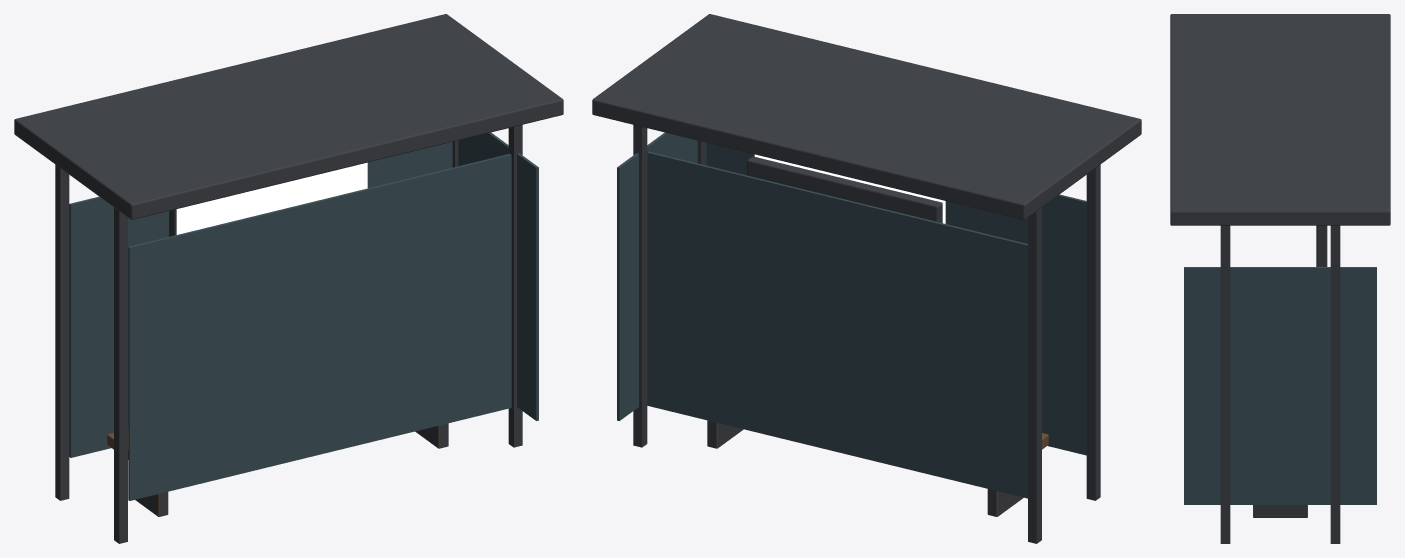
File: prop_bus_shelter.glb
3 views of the same model, side by side, from view 1: azimuth 30°, elevation 25°; view 2: azimuth 150°, elevation 25°; view 3: azimuth 270°, elevation 25° (orthographic). The views are drawn at different scales.
Parts seen in each view (by area): view 1: bus_shelter_glass_front, bus_shelter_roof, bus_shelter_glass_back, bus_shelter_frame, bus_shelter_glass_side, bus_shelter_ad_panel, bus_shelter_bench; view 2: bus_shelter_glass_back, bus_shelter_roof, bus_shelter_glass_front, bus_shelter_frame, bus_shelter_glass_side, bus_shelter_ad_box, bus_shelter_bench, bus_shelter_ad_panel; view 3: bus_shelter_roof, bus_shelter_glass_side, bus_shelter_frame, bus_shelter_bench, bus_shelter_ad_box.
Part boxes in pixels (box(x1,y1,x2,y2)): bus_shelter_glass_front: box(128, 154, 511, 500); bus_shelter_roof: box(14, 14, 563, 219); bus_shelter_glass_back: box(69, 142, 452, 457); bus_shelter_frame: box(55, 125, 522, 543); bus_shelter_glass_side: box(458, 132, 538, 420); bus_shelter_ad_panel: box(176, 162, 367, 234); bus_shelter_bench: box(107, 423, 448, 516); bus_shelter_glass_back: box(647, 151, 1027, 498); bus_shelter_roof: box(592, 14, 1141, 219); bus_shelter_glass_front: box(706, 142, 1086, 455); bus_shelter_frame: box(633, 125, 1100, 543); bus_shelter_glass_side: box(617, 132, 706, 420); bus_shelter_ad_box: box(747, 156, 942, 222); bus_shelter_bench: box(707, 420, 1048, 516); bus_shelter_ad_panel: box(754, 154, 945, 223); bus_shelter_roof: box(1170, 14, 1390, 225); bus_shelter_glass_side: box(1184, 267, 1376, 504); bus_shelter_frame: box(1220, 225, 1340, 543); bus_shelter_bench: box(1253, 505, 1307, 517); bus_shelter_ad_box: box(1316, 225, 1327, 266).
Size of the model in its own units: 3.4 by 2.72 by 1.6.
